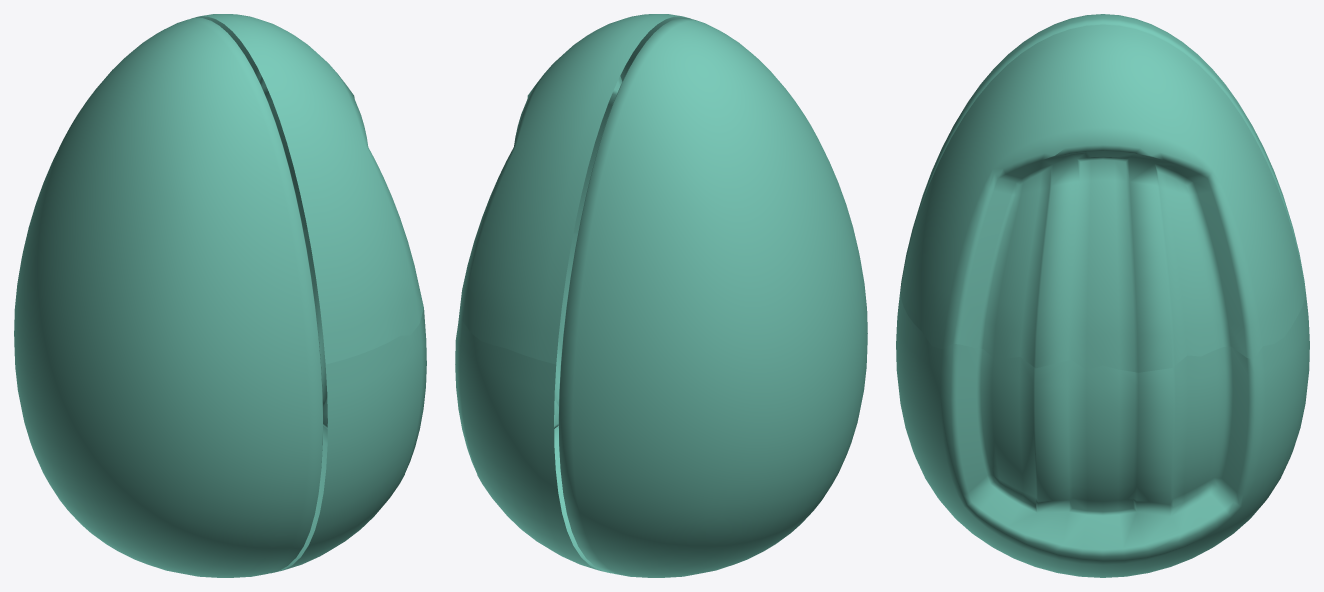
The model's file is Deep Egg Simulation New.fbx.
3 views of the same model, side by side, from view 1: azimuth 30°, elevation 25°; view 2: azimuth 150°, elevation 25°; view 3: azimuth 270°, elevation 25° (orthographic).
Visible parts, largest first — view 1: Slime Egg.001, Slime Egg.006, Slime Egg.002; view 2: Slime Egg.001, Slime Egg.006, Slime Egg.002; view 3: Slime Egg.006, Slime Egg.002, Slime Egg.001.
Part boxes in pixels (box(x1,y1,x2,y2)): Slime Egg.001: box(14, 18, 323, 577); Slime Egg.006: box(191, 14, 423, 364); Slime Egg.002: box(271, 229, 426, 573); Slime Egg.001: box(558, 18, 867, 577); Slime Egg.006: box(458, 14, 690, 364); Slime Egg.002: box(455, 233, 610, 573); Slime Egg.006: box(900, 24, 1305, 372); Slime Egg.002: box(896, 291, 1309, 577); Slime Egg.001: box(898, 14, 1307, 309).
Size of the model in its own units: 2.3 by 3.62 by 2.56.
